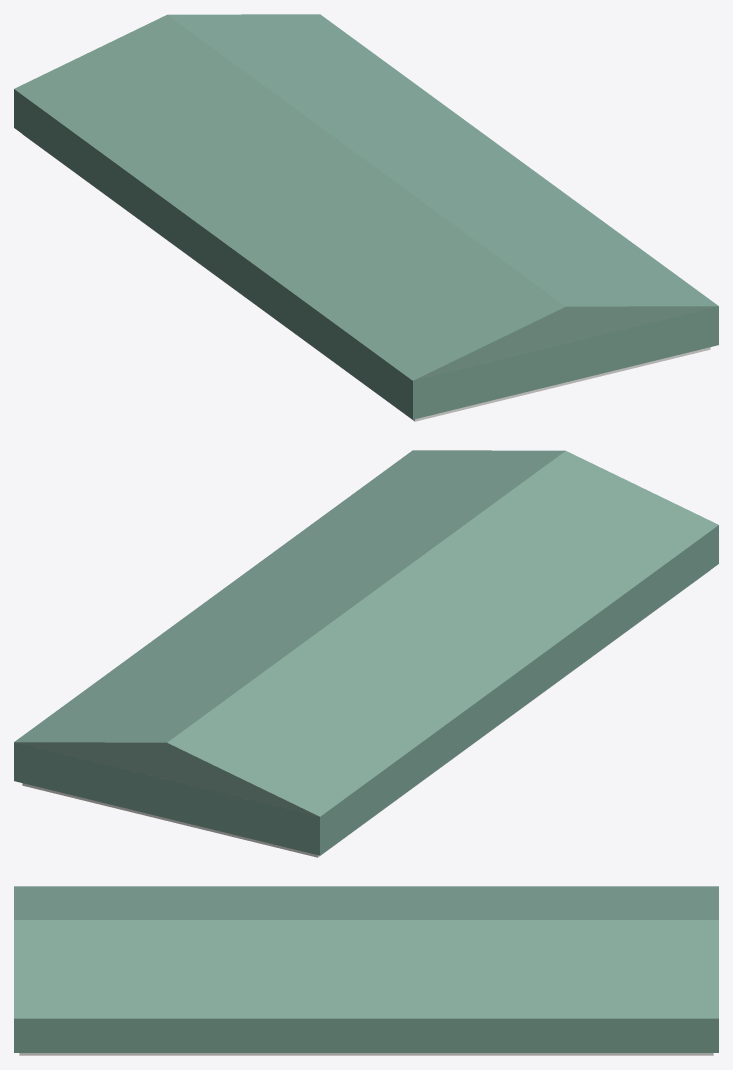
Rendered from info_roof.glb.
The picture shows the model from 3 angles, top to bottom: view 1: azimuth 30°, elevation 25°; view 2: azimuth 150°, elevation 25°; view 3: azimuth 270°, elevation 25°; orthographic projection. The views are drawn at different scales.
Parts seen in each view (by area): view 1: info_roof__roofMetal, info_roof__green, info_roof__slab; view 2: info_roof__roofMetal, info_roof__green, info_roof__slab; view 3: info_roof__roofMetal, info_roof__green, info_roof__slab.
Boxes of the visible parts, bbox=[...] form: info_roof__roofMetal: bbox=[14, 14, 718, 380]; info_roof__green: bbox=[14, 89, 718, 419]; info_roof__slab: bbox=[22, 134, 710, 421]; info_roof__roofMetal: bbox=[14, 450, 718, 816]; info_roof__green: bbox=[14, 525, 718, 855]; info_roof__slab: bbox=[22, 570, 710, 857]; info_roof__roofMetal: bbox=[14, 886, 718, 1018]; info_roof__green: bbox=[14, 1018, 718, 1052]; info_roof__slab: bbox=[19, 1053, 713, 1055].
Size of the model in its own units: 14.8 by 3.75 by 33.4.
